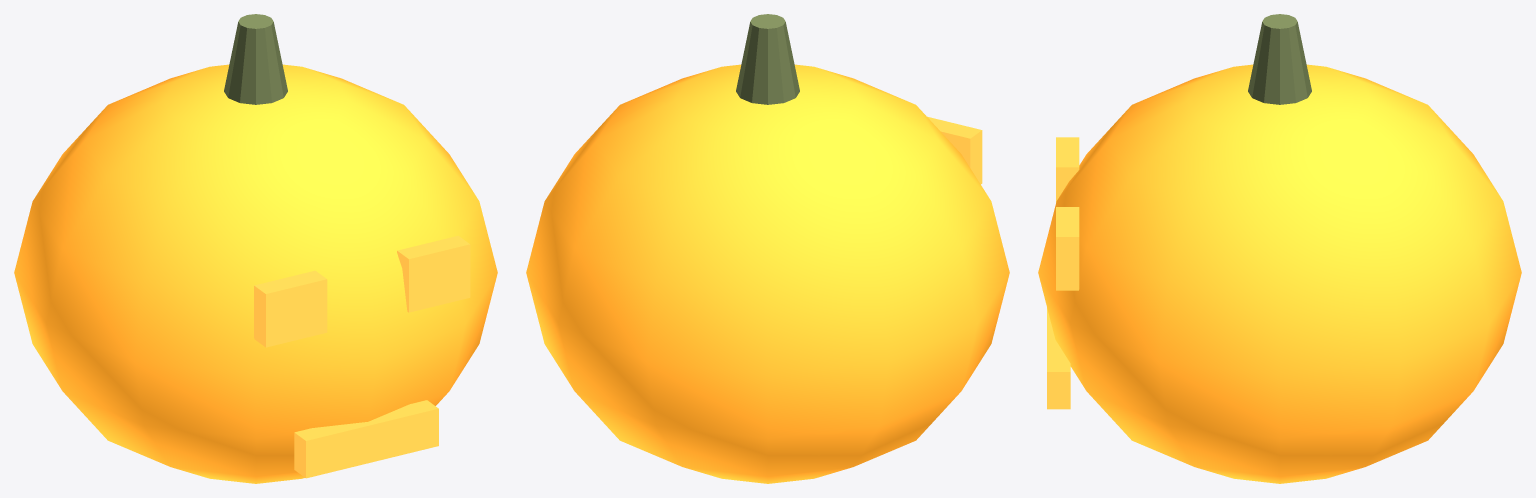
Rendered from pumpkinLantern.glb.
3 renders of one model, left to right at view 1: azimuth 30°, elevation 25°; view 2: azimuth 150°, elevation 25°; view 3: azimuth 270°, elevation 25°, orthographic.
Visible parts, largest first — view 1: pumpkinLantern; view 2: pumpkinLantern; view 3: pumpkinLantern.
Part boxes in pixels (box(x1,y1,x2,y2)): pumpkinLantern: box(14, 14, 497, 483); pumpkinLantern: box(526, 14, 1009, 483); pumpkinLantern: box(1038, 14, 1521, 483).
Size of the model in its own units: 0.164 by 0.1637 by 0.164.
